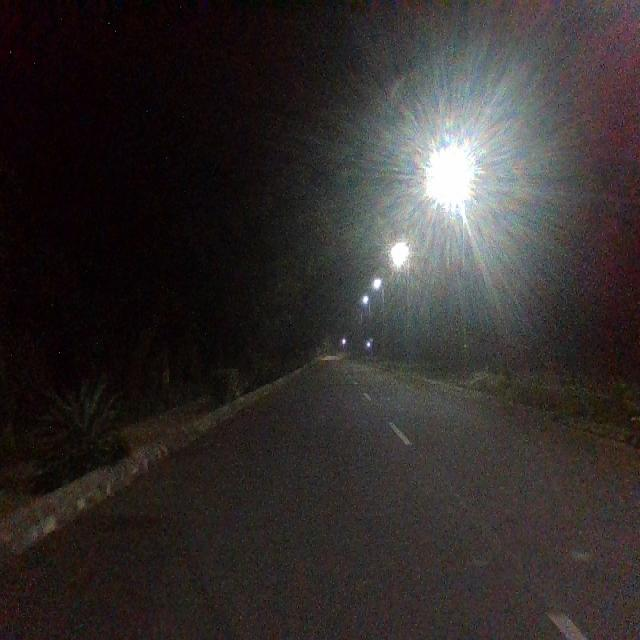lane: (0, 364, 568, 640)
